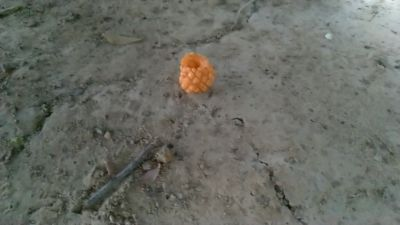eggs: (181, 53, 215, 97)
